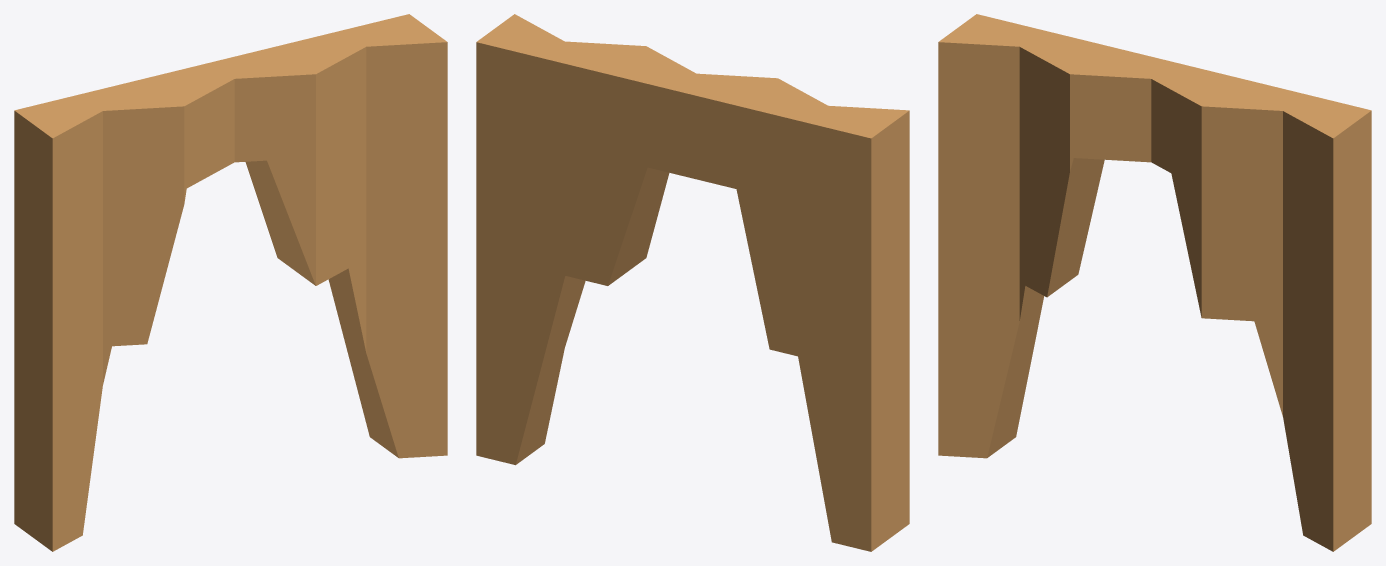
Rendered from cave-arch.glb.
The picture shows the model from 3 angles, left to right: view 1: azimuth 30°, elevation 25°; view 2: azimuth 150°, elevation 25°; view 3: azimuth 330°, elevation 25°; orthographic projection.
Parts seen in each view (by area): view 1: cliff_cave_rock; view 2: cliff_cave_rock; view 3: cliff_cave_rock.
Boxes of the visible parts, x1=… form: cliff_cave_rock: x1=14, y1=14, x2=447, y2=551; cliff_cave_rock: x1=476, y1=14, x2=909, y2=551; cliff_cave_rock: x1=938, y1=14, x2=1371, y2=551.
Bounding box in the file's own units: 4 × 4 × 0.6738.
